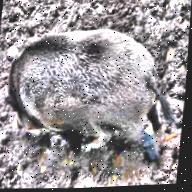boar: (0, 7, 181, 158)
